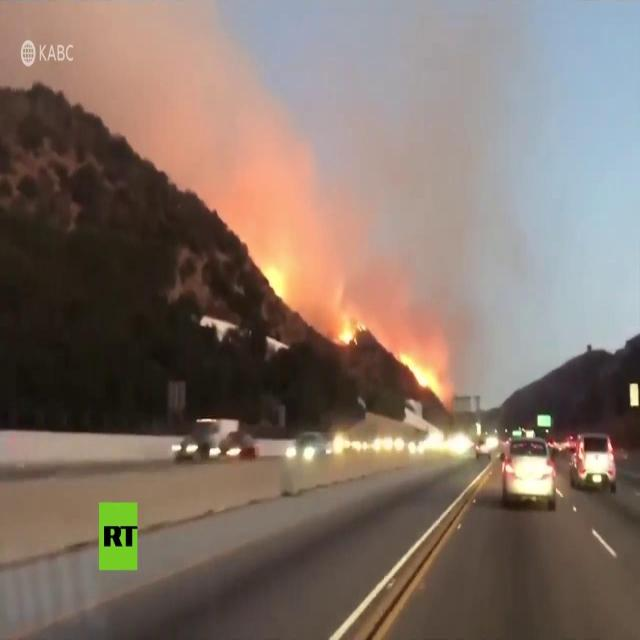Fire: (401, 354, 442, 397), (336, 309, 364, 346)
